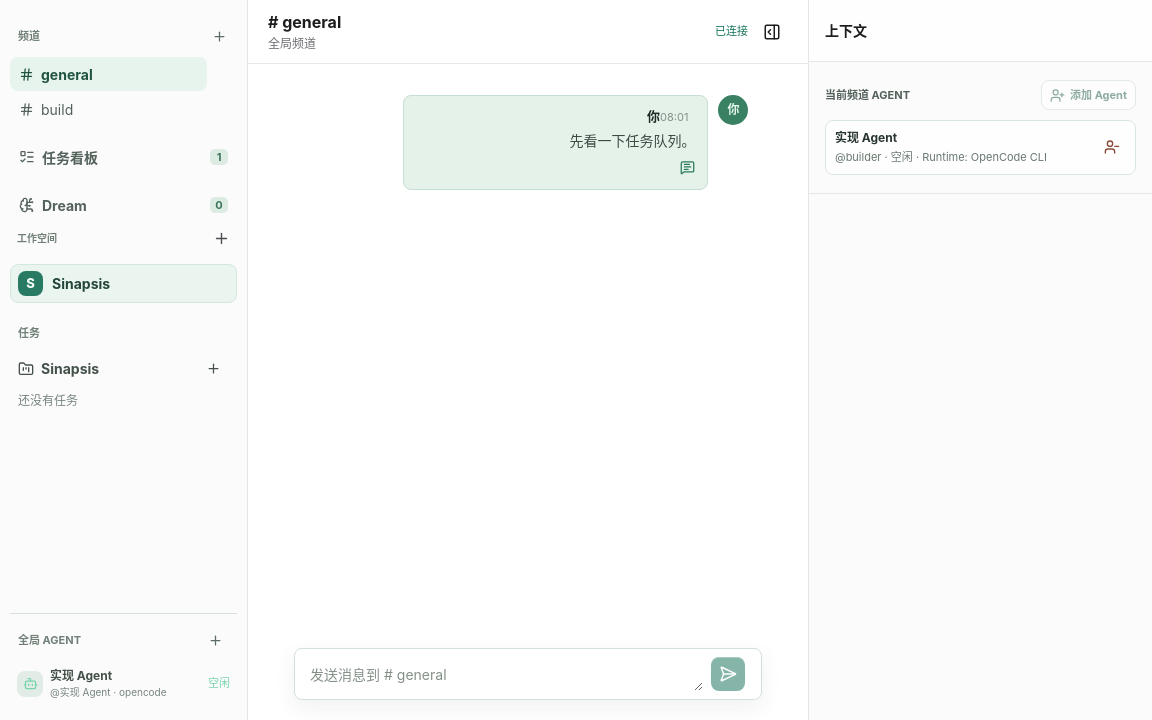
Test: WorkspaceShell › shows workspace channels and loads the selected channel messages
Expected: the button with aria-label "# general" is shown, [10,57,207,91]
Expected: the 1st text "Sinapsis" is shown, [52,273,110,294]
Click the button with aria-label "# build" at (108, 109), box [10,92,207,126]
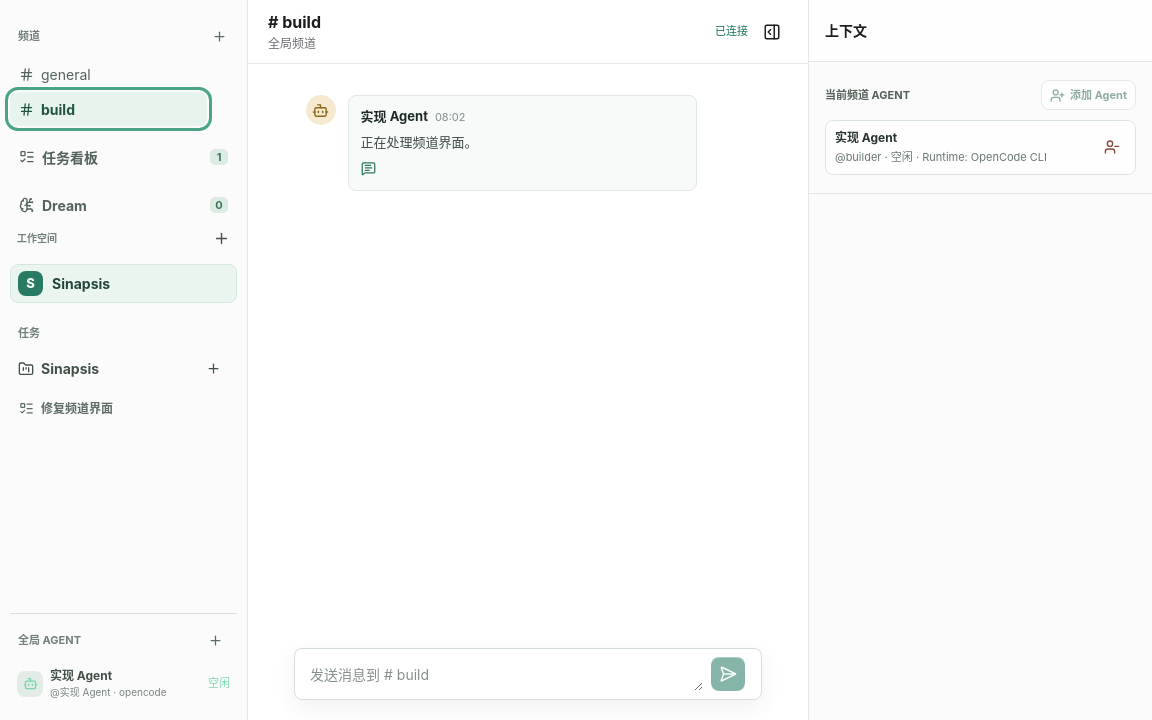
Now the text "正在处理频道界面。" is shown, box [361,134,478,150]
Now the text "先看一下任务队列。" is gone
